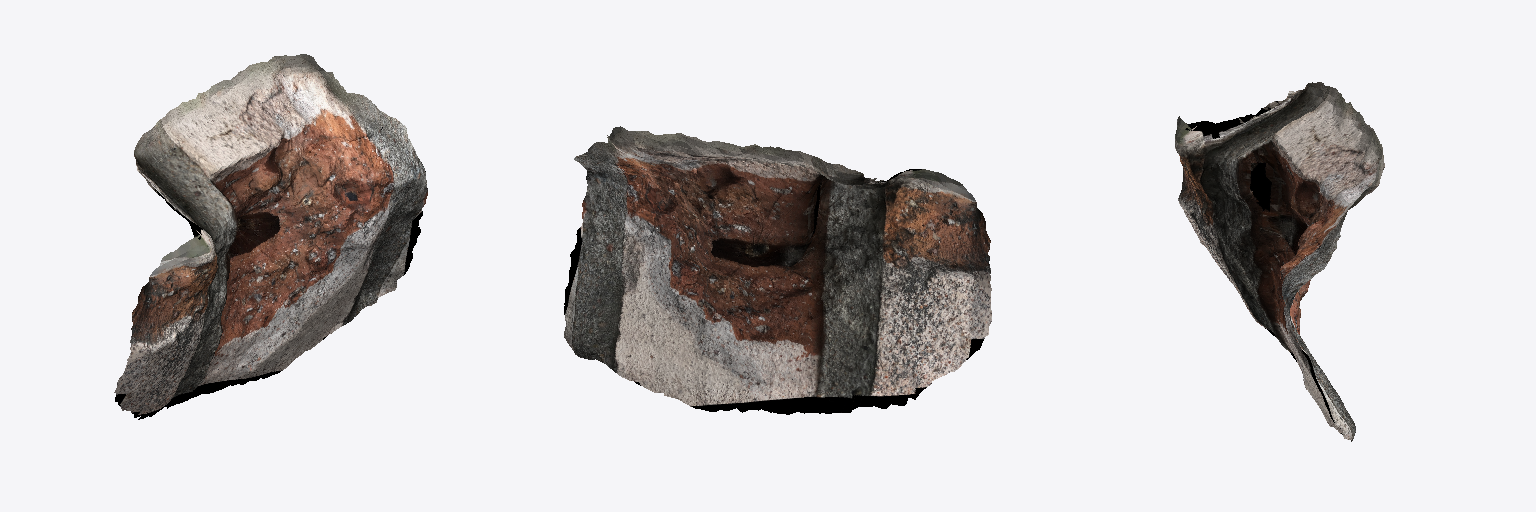
The picture shows the model from 3 angles: view 1: azimuth 30°, elevation 25°; view 2: azimuth 150°, elevation 25°; view 3: azimuth 270°, elevation 25°; orthographic projection.
Size of the model in its own units: 7.15 by 5.53 by 3.58.
Materials: 1 (1 with a texture image).